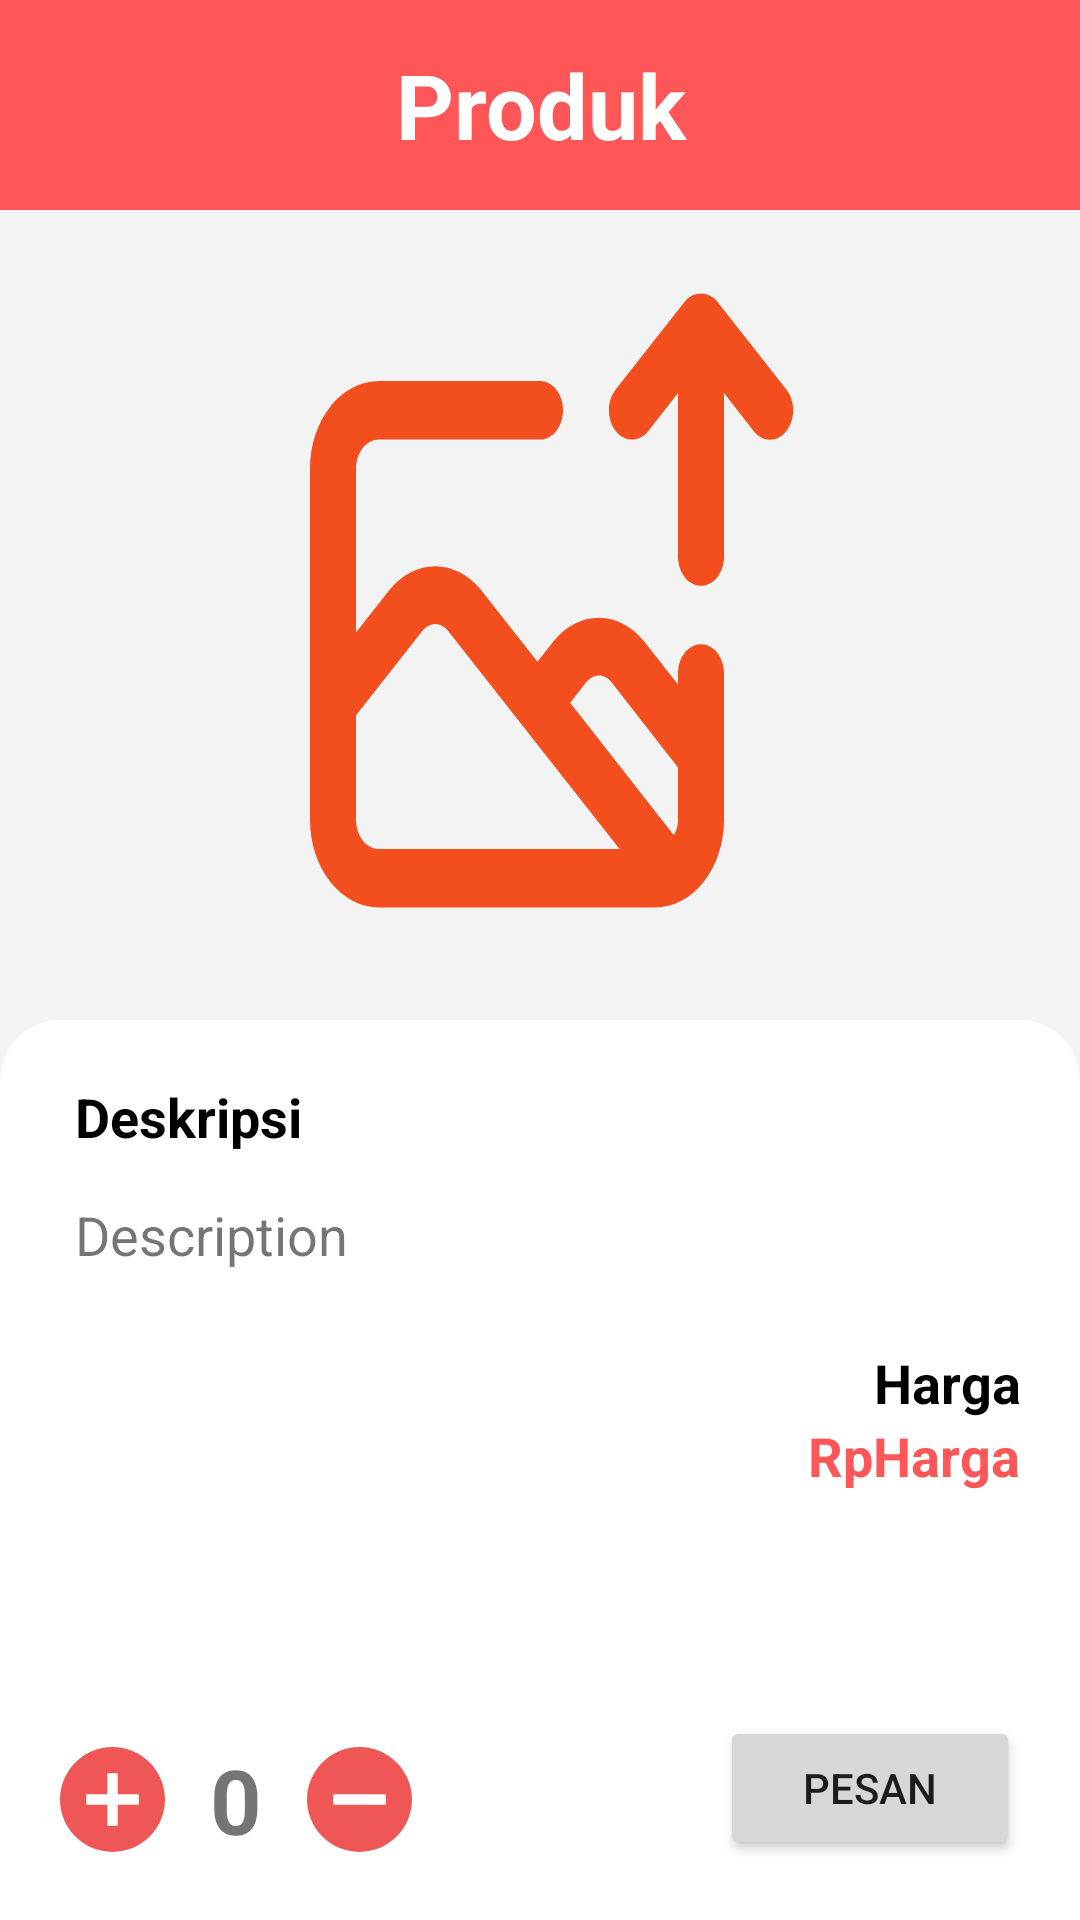

Named icons in this screenshot (1080 x 1920) and their bounding boxes, (x1, y1, x2, y2):
add quan: (60, 1747, 165, 1852)
